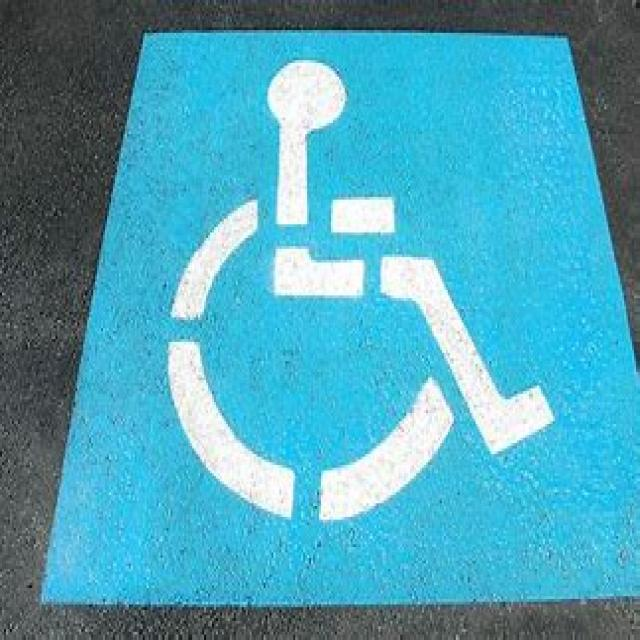car-handicap-placard: (166, 58, 558, 524)
